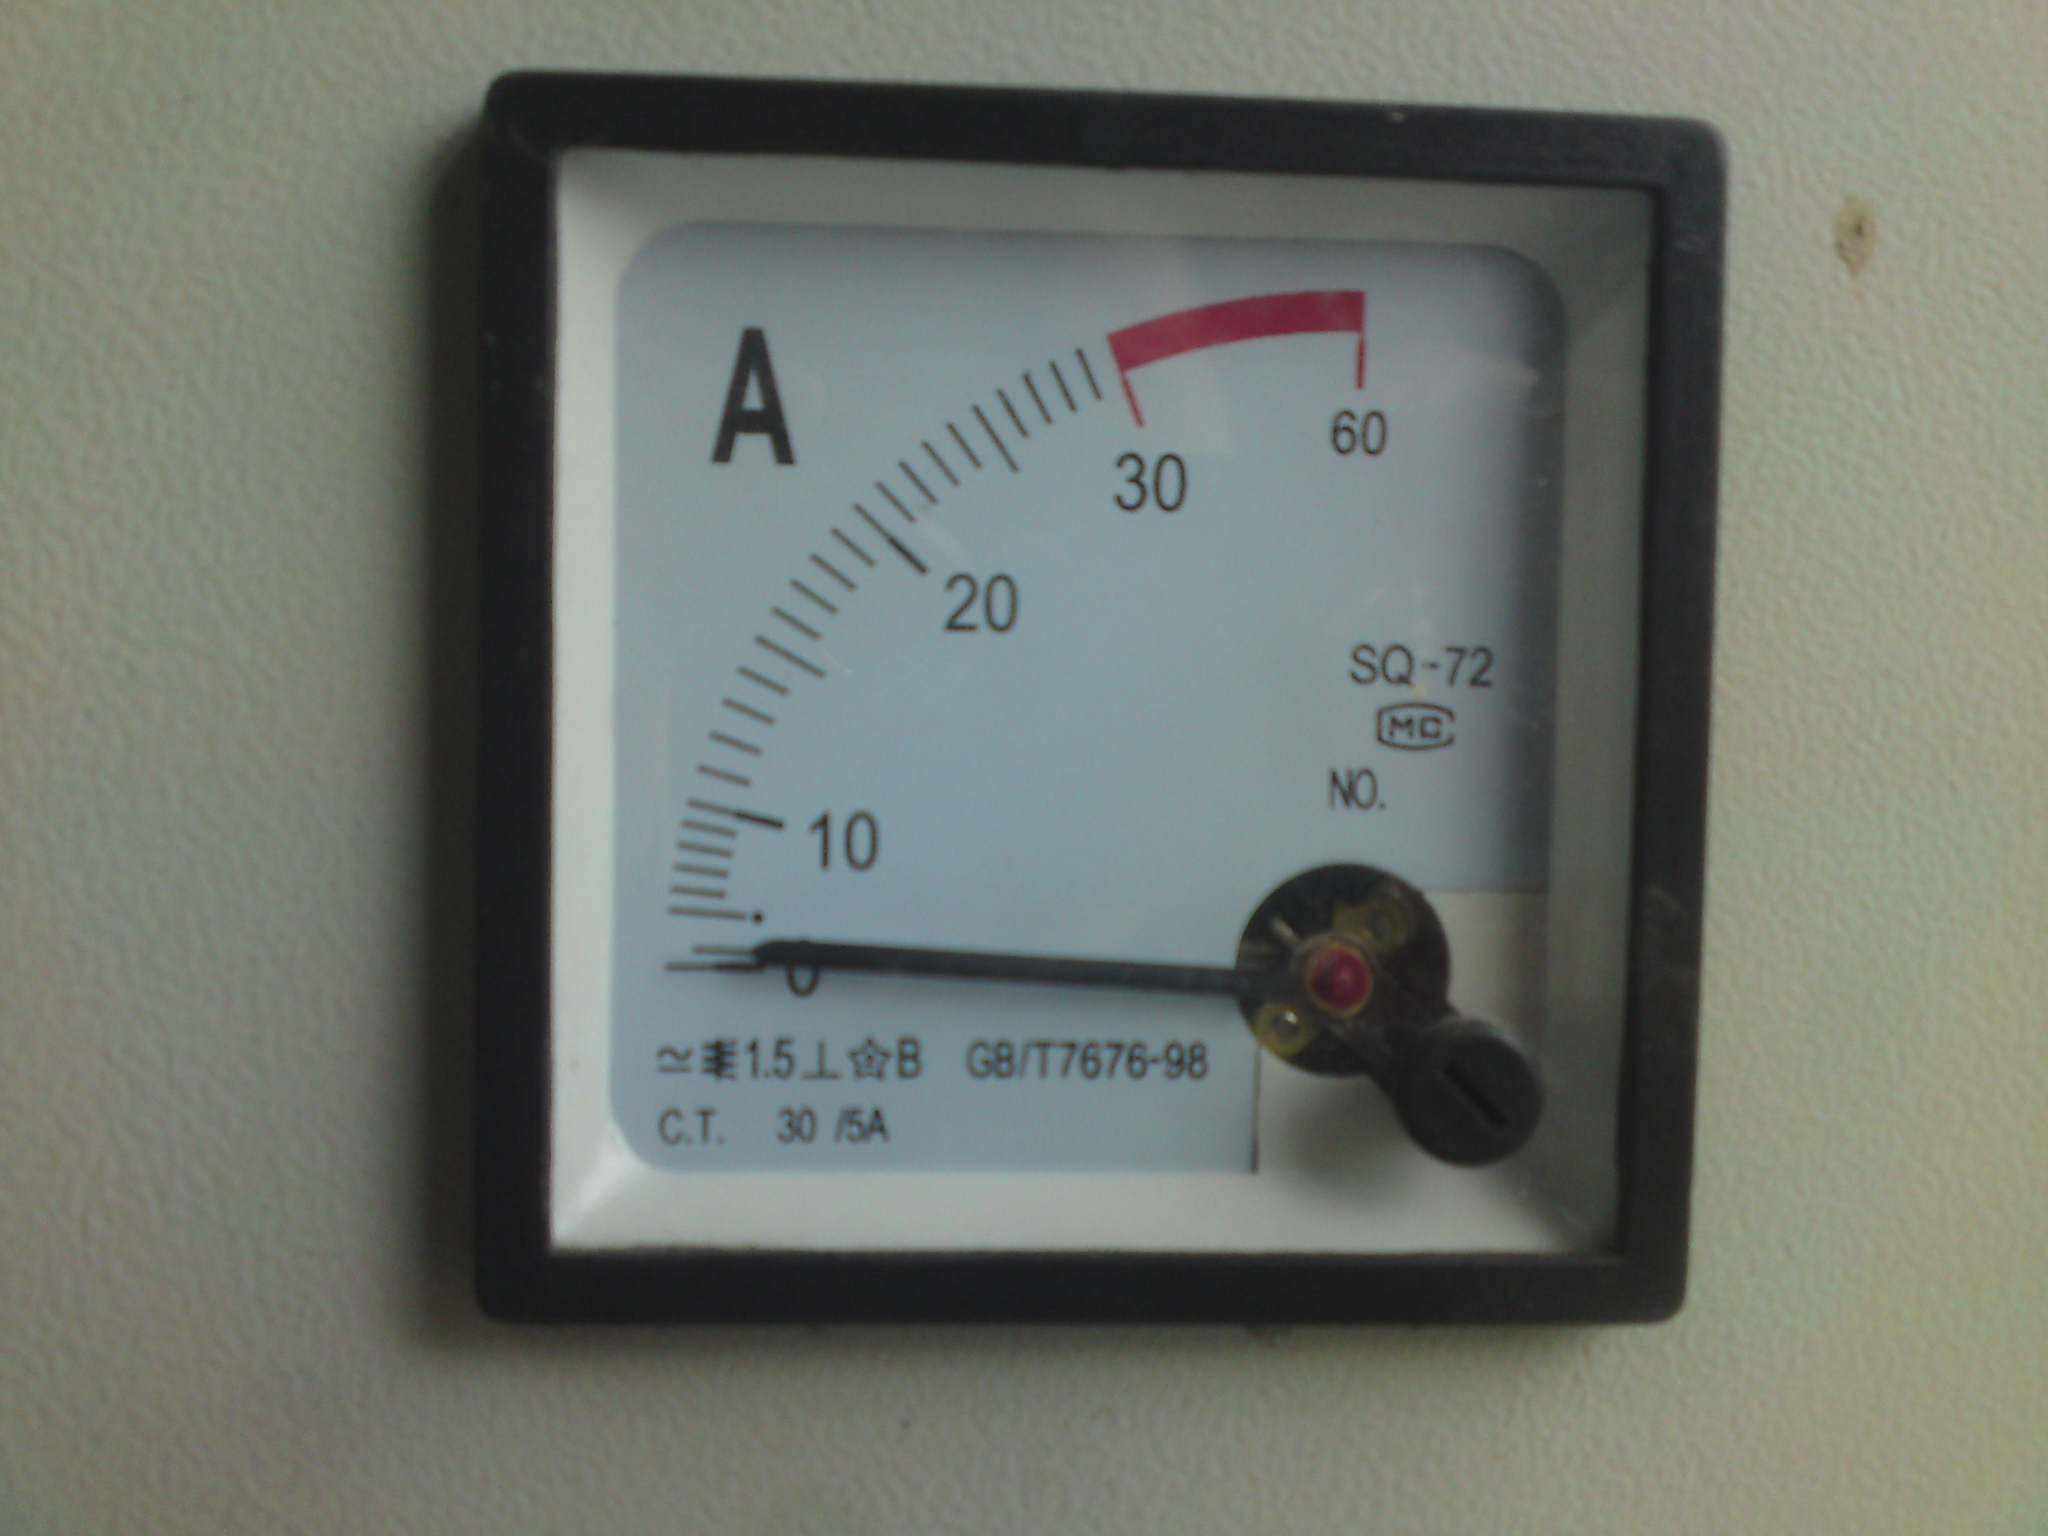pointer: (555, 136, 1642, 1275)
